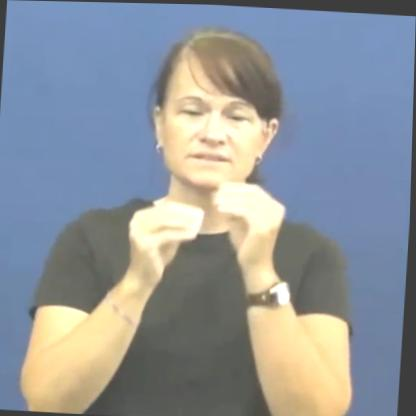Fix: (112, 153, 299, 305)
